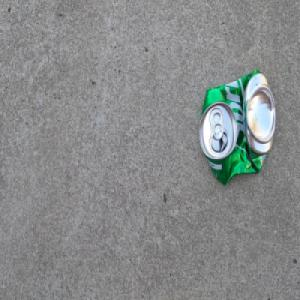SodaCan: (198, 68, 277, 186)
